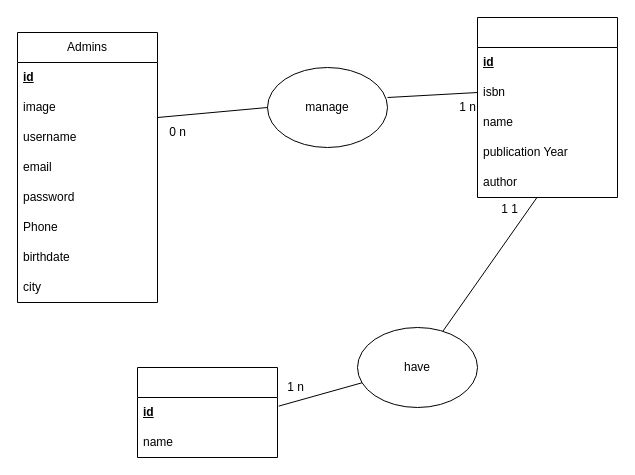
Some shapes in this 635 by 475 pixel diagram are drawn without their labels. The box of each missing label's shape, as (x1, y1, x2, y2) in pixels:
book: (476, 16, 618, 198)
categories: (136, 366, 278, 458)
